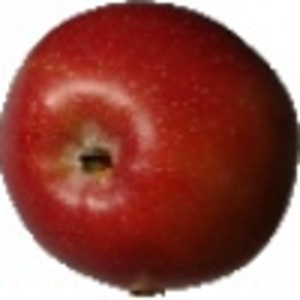maçã braeburn: (1, 2, 292, 292)
